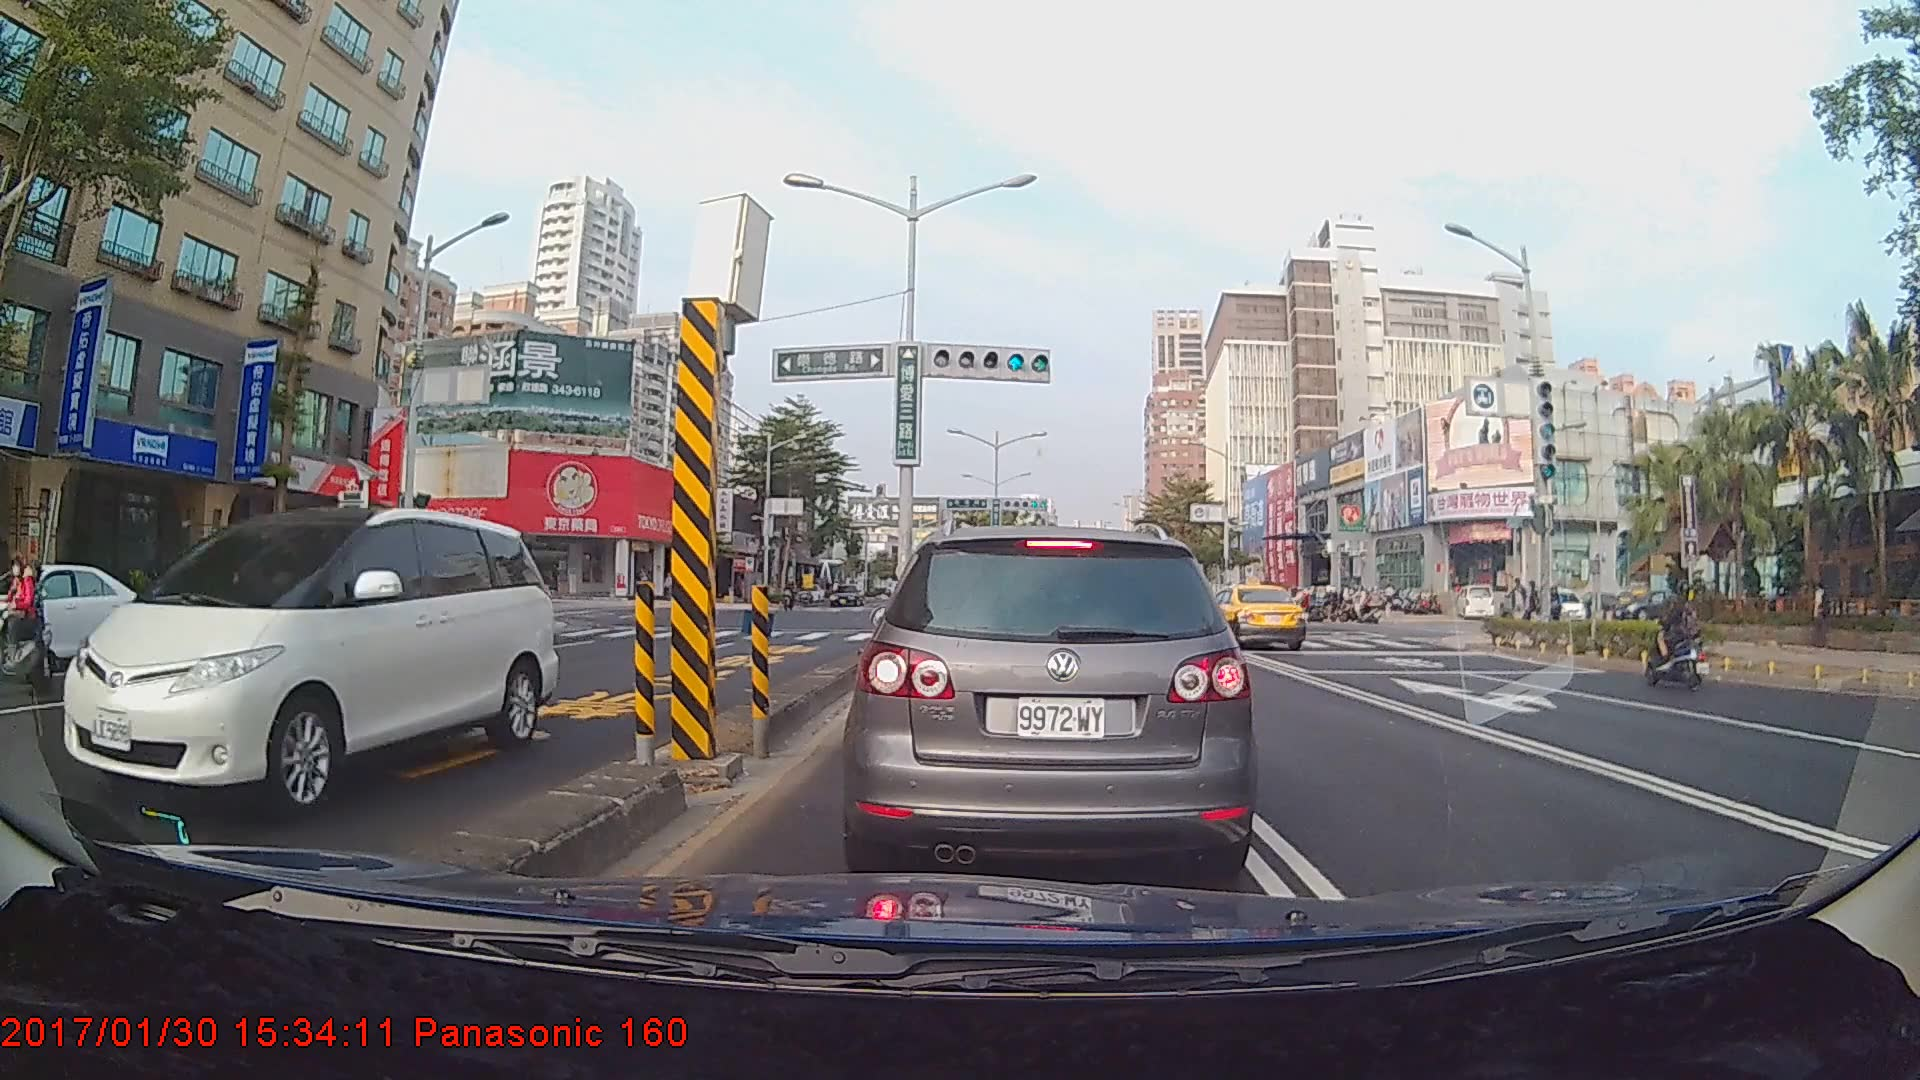pedestrian: (1809, 579, 1834, 648)
rider: (1642, 579, 1718, 695), (1, 557, 58, 695)
vehicle: (63, 505, 559, 819), (855, 521, 1251, 874), (0, 561, 158, 671), (1197, 581, 1307, 653)
